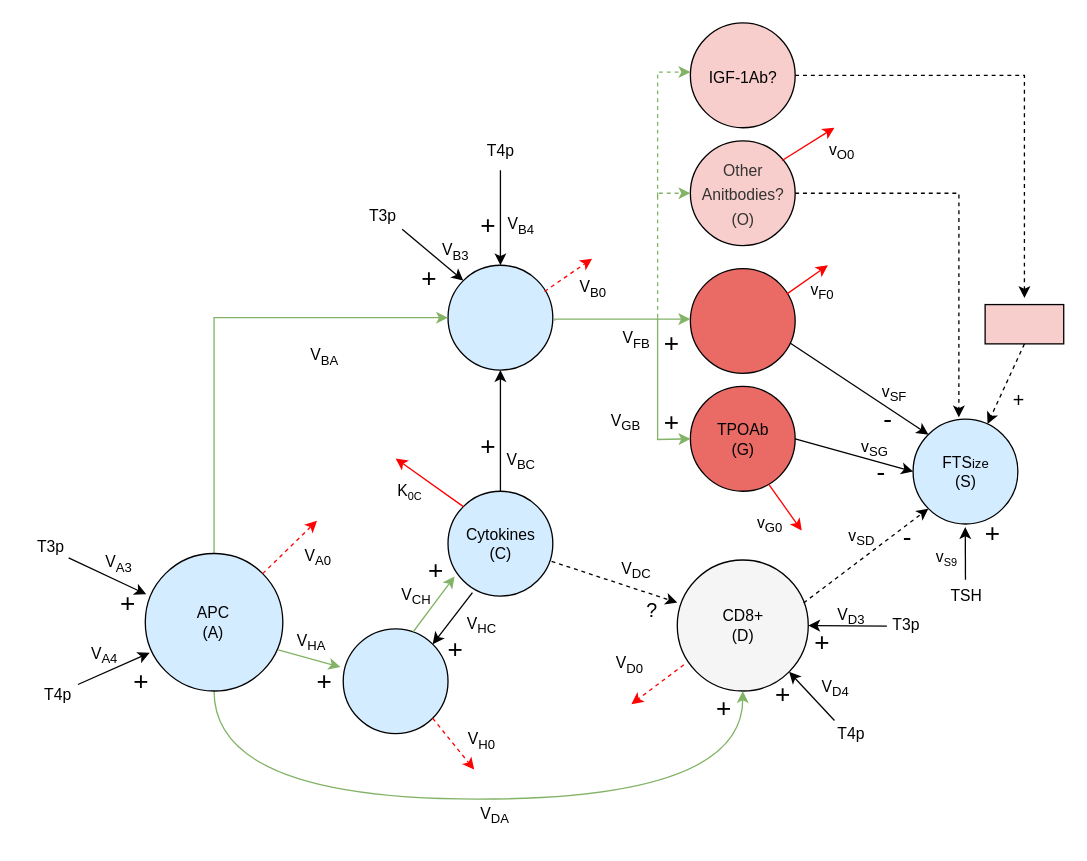
Some shapes in this 1087 by 861 pixel diagram are drawn without their labels. Here are the shapes that lost their labels. From the top down, the centre of each, then its label:
At (500,317): "B-Cell (B)".
At (742,320): "TGAb (F)".
At (1024,323): "IGF-1?".
At (395,680): "CD4+ (H)".
